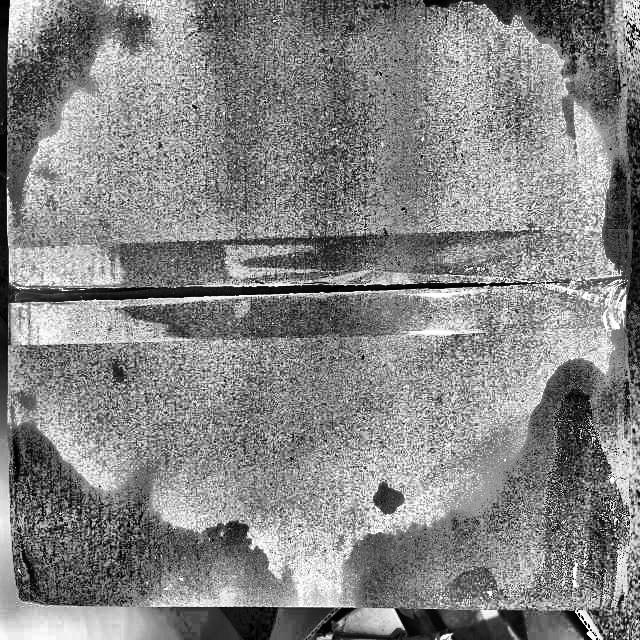box: (0, 0, 640, 618)
hole: (297, 606, 461, 640)
wet: (320, 354, 637, 612), (0, 430, 308, 612), (452, 4, 630, 274), (10, 1, 114, 219)
